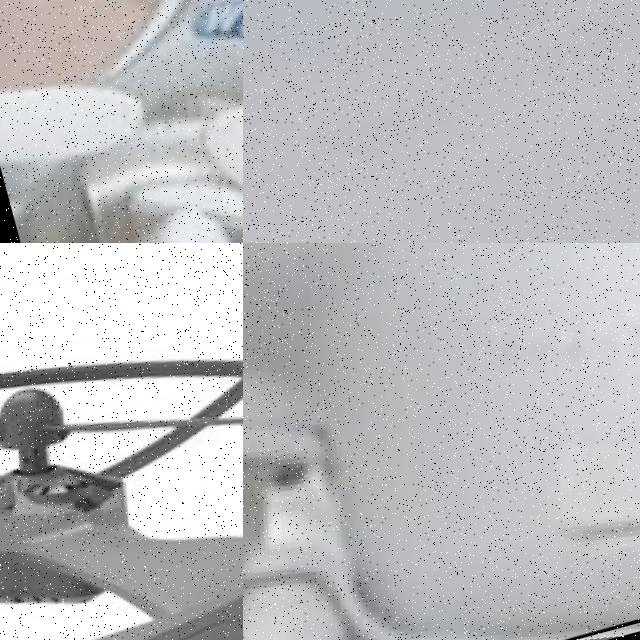drone: (243, 243, 640, 640), (0, 243, 243, 640), (0, 0, 243, 243)
